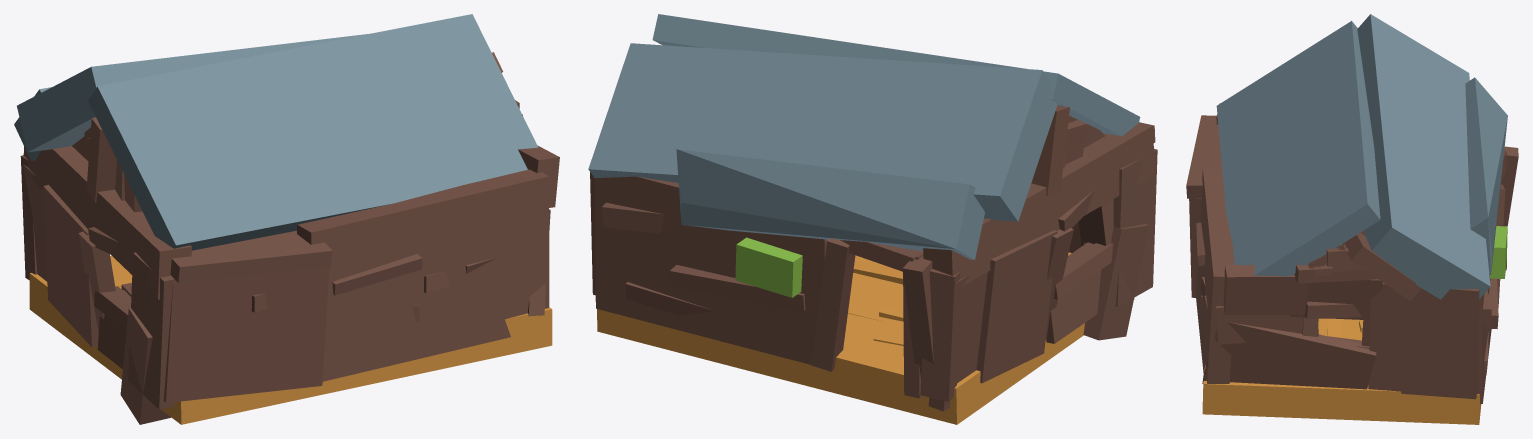
3 renders of one model, left to right at view 1: azimuth 30°, elevation 25°; view 2: azimuth 150°, elevation 25°; view 3: azimuth 270°, elevation 25°, orthographic. The views are drawn at different scales.
Parts seen in each view (by area): view 1: mesh_960510472, mesh_1287641047, mesh_226952773, mesh_1999005119, mesh_1412508912, mesh_1661200560, mesh_39268270, mesh_808066305, mesh_663299266, mesh_1555213706, mesh_278907029, mesh_2052395916 (+6 smaller); view 2: mesh_1412508912, mesh_521705386, mesh_559602757, mesh_1999005119, mesh_1661200560, mesh_960510472, mesh_808066305, mesh_1555213706, mesh_974621118, mesh_1729432181, mesh_663299266, mesh_411870205 (+16 smaller); view 3: mesh_960510472, mesh_1412508912, mesh_2003317371, mesh_1999005119, mesh_898103435, mesh_1287641047, mesh_521705386, mesh_367509401, mesh_1200623276, mesh_39268270, mesh_1546890969, mesh_1027189542 (+9 smaller).
Boxes of the visible parts, <box> form: mesh_960510472: <box>88,14,538,250</box>; mesh_1287641047: <box>297,169,549,381</box>; mesh_226952773: <box>163,267,329,402</box>; mesh_1999005119: <box>29,255,552,424</box>; mesh_1412508912: <box>17,34,367,152</box>; mesh_1661200560: <box>23,146,191,299</box>; mesh_39268270: <box>170,230,332,282</box>; mesh_808066305: <box>43,184,98,347</box>; mesh_663299266: <box>128,252,176,409</box>; mesh_1555213706: <box>120,308,171,424</box>; mesh_278907029: <box>86,117,116,202</box>; mesh_2052395916: <box>78,231,115,332</box>; mesh_1412508912: <box>588,43,1057,221</box>; mesh_521705386: <box>676,149,984,259</box>; mesh_559602757: <box>595,176,826,364</box>; mesh_1999005119: <box>597,252,1134,424</box>; mesh_1661200560: <box>923,122,1154,286</box>; mesh_960510472: <box>652,14,1140,136</box>; mesh_808066305: <box>976,230,1057,383</box>; mesh_1555213706: <box>1083,224,1149,340</box>; mesh_974621118: <box>920,269,960,401</box>; mesh_1729432181: <box>811,238,855,371</box>; mesh_663299266: <box>1113,148,1157,306</box>; mesh_411870205: <box>735,237,802,297</box>; mesh_960510472: <box>1216,21,1380,276</box>; mesh_1412508912: <box>1357,14,1490,299</box>; mesh_2003317371: <box>1368,282,1479,399</box>; mesh_1999005119: <box>1202,244,1481,424</box>; mesh_898103435: <box>1202,322,1376,389</box>; mesh_1287641047: <box>1196,169,1234,383</box>; mesh_521705386: <box>1465,77,1507,274</box>; mesh_367509401: <box>1223,265,1308,314</box>; mesh_1200623276: <box>1290,279,1382,320</box>; mesh_39268270: <box>1186,115,1221,198</box>; mesh_1546890969: <box>1343,233,1421,300</box>; mesh_1027189542: <box>1215,306,1318,344</box>.
Bounding box in the file's own units: 111 × 76.58 × 88.78.
